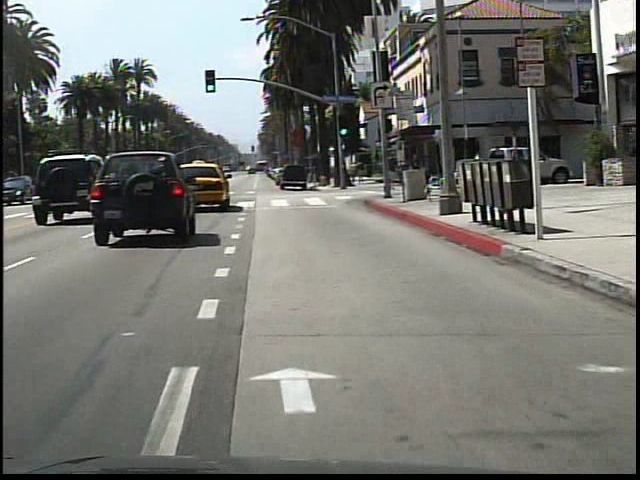person: (387, 151, 403, 194)
